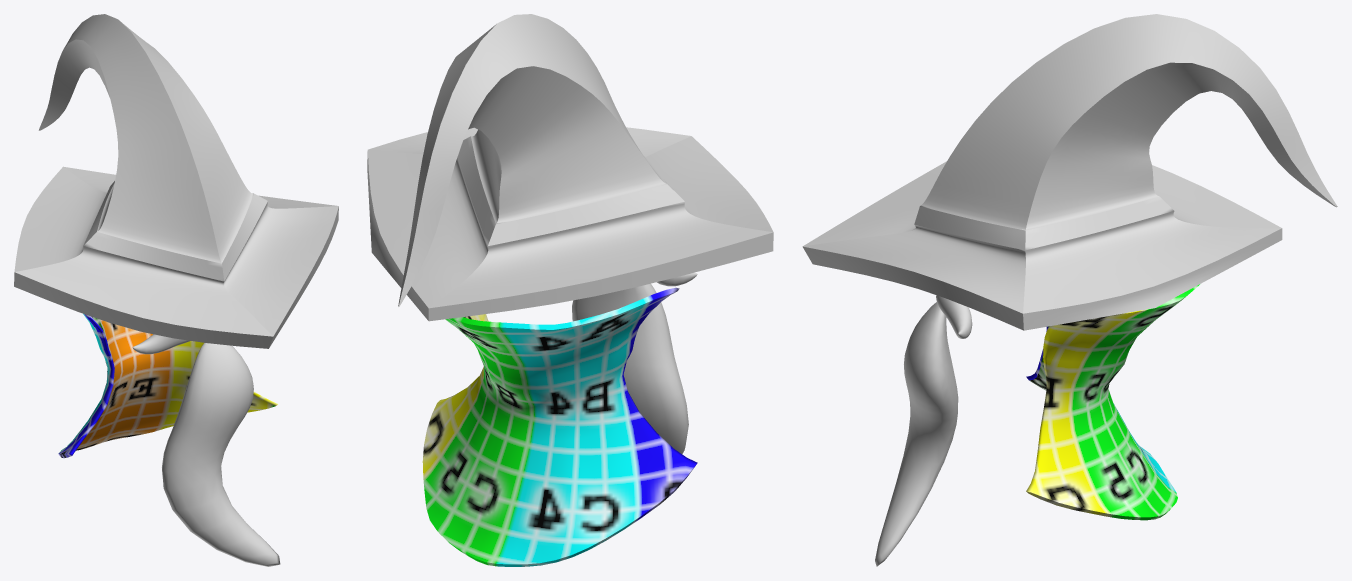
The model's file is Wizard_Low.FBX.
3 renders of one model, left to right at view 1: azimuth 30°, elevation 25°; view 2: azimuth 150°, elevation 25°; view 3: azimuth 270°, elevation 25°, orthographic. The views are drawn at different scales.
Parts seen in each view (by area): view 1: WZHat_Low, WZBeard_Low, WZCape_Low; view 2: WZHat_Low, WZCape_Low, WZBeard_Low; view 3: WZHat_Low, WZCape_Low, WZBeard_Low.
Boxes of the visible parts, x1=… form: WZHat_Low: x1=14, y1=14, x2=338, y2=348; WZBeard_Low: x1=132, y1=334, x2=280, y2=566; WZCape_Low: x1=58, y1=313, x2=277, y2=458; WZHat_Low: x1=367, y1=14, x2=773, y2=321; WZCape_Low: x1=422, y1=287, x2=697, y2=566; WZBeard_Low: x1=572, y1=273, x2=697, y2=453; WZHat_Low: x1=802, y1=14, x2=1337, y2=330; WZCape_Low: x1=1026, y1=284, x2=1199, y2=520; WZBeard_Low: x1=875, y1=295, x2=972, y2=566.
Bounding box in the file's own units: 55.75 × 76.42 × 69.77.
1 material, 1 textured.
